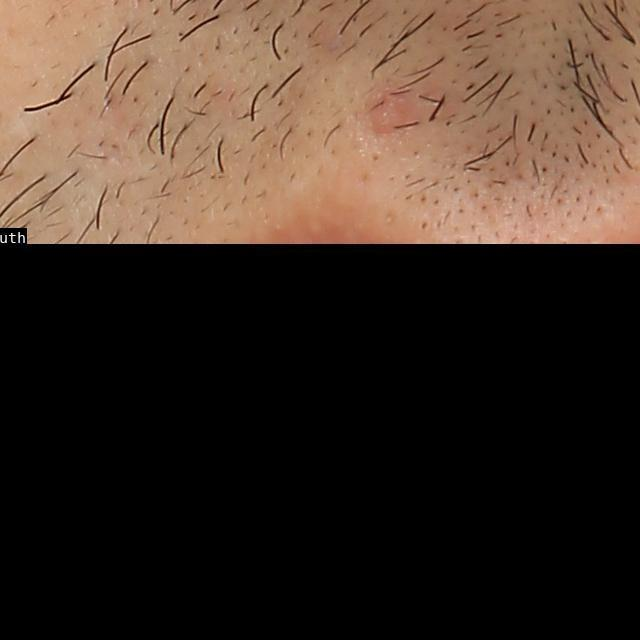papule: (363, 80, 412, 139)
